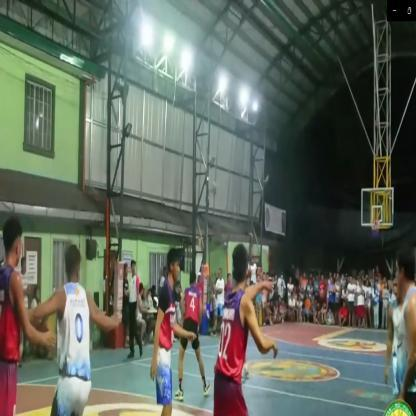rim: (367, 211, 383, 242)
